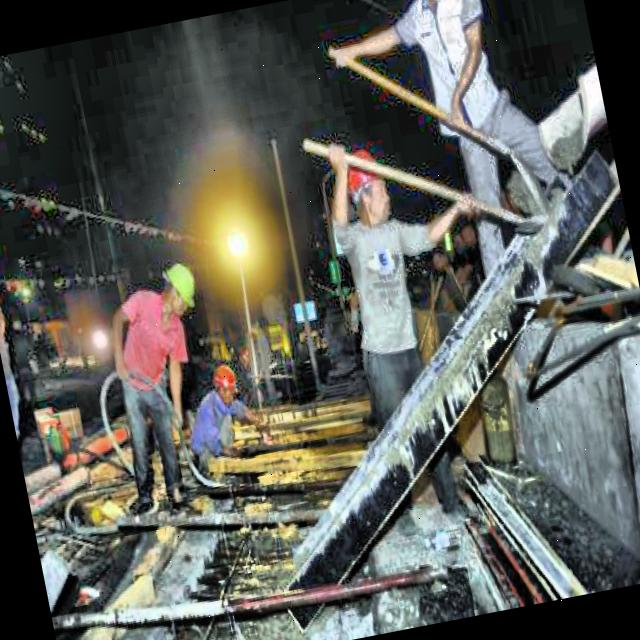helmet: (341, 154, 394, 228), (156, 258, 202, 323), (208, 359, 244, 410), (0, 227, 7, 296)
